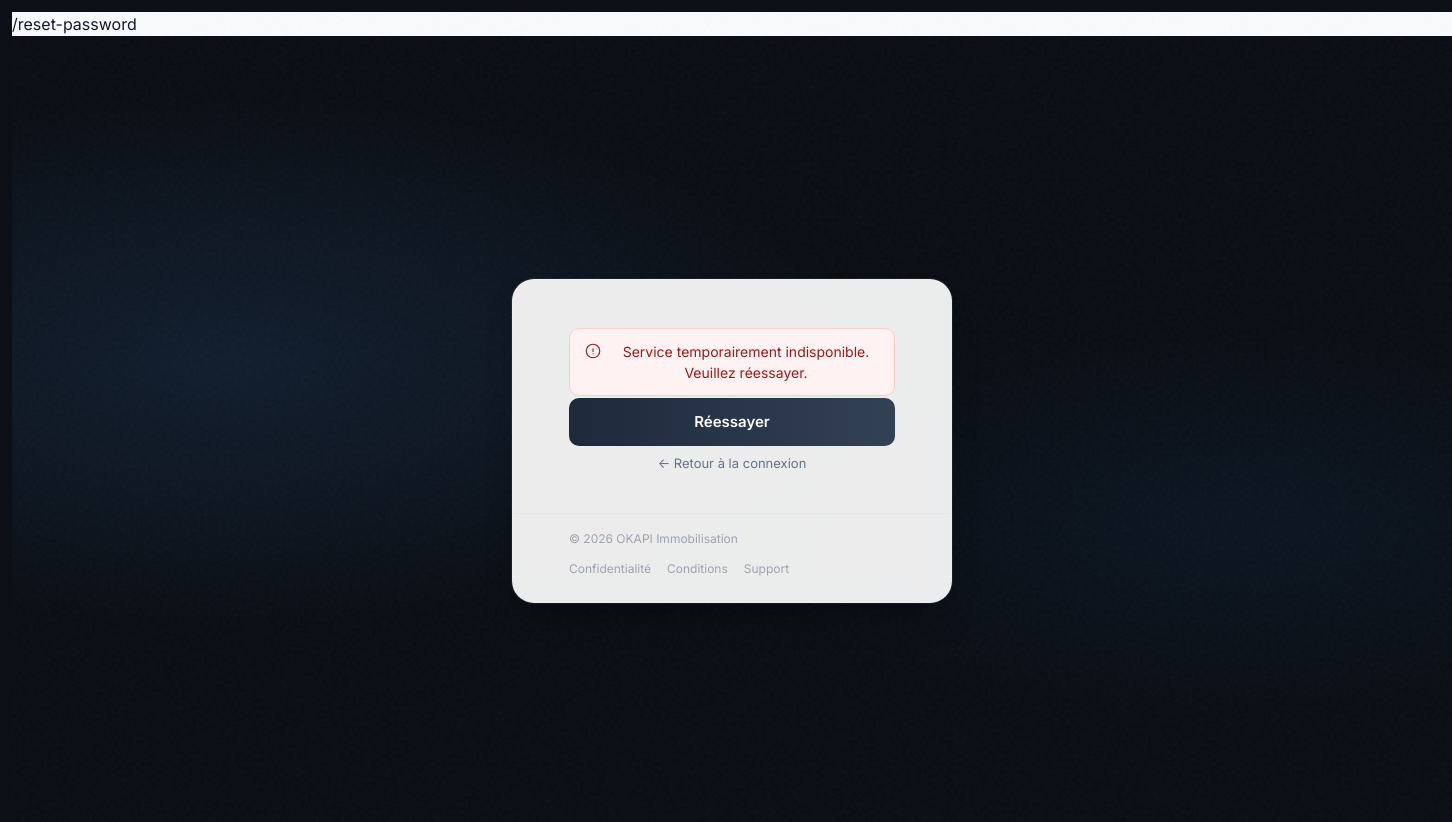
503 during verification offers retry and never grants access to the form
The width and height of the screenshot is (1452, 822).
Expected: the text "Service temporairement indisponible. Veuillez réessayer." is shown, [569,328,895,396]
Expected: the field labelled "Nouveau mot de passe" is not shown
Click the button "Réessayer": (732, 422) [569,398,895,446]
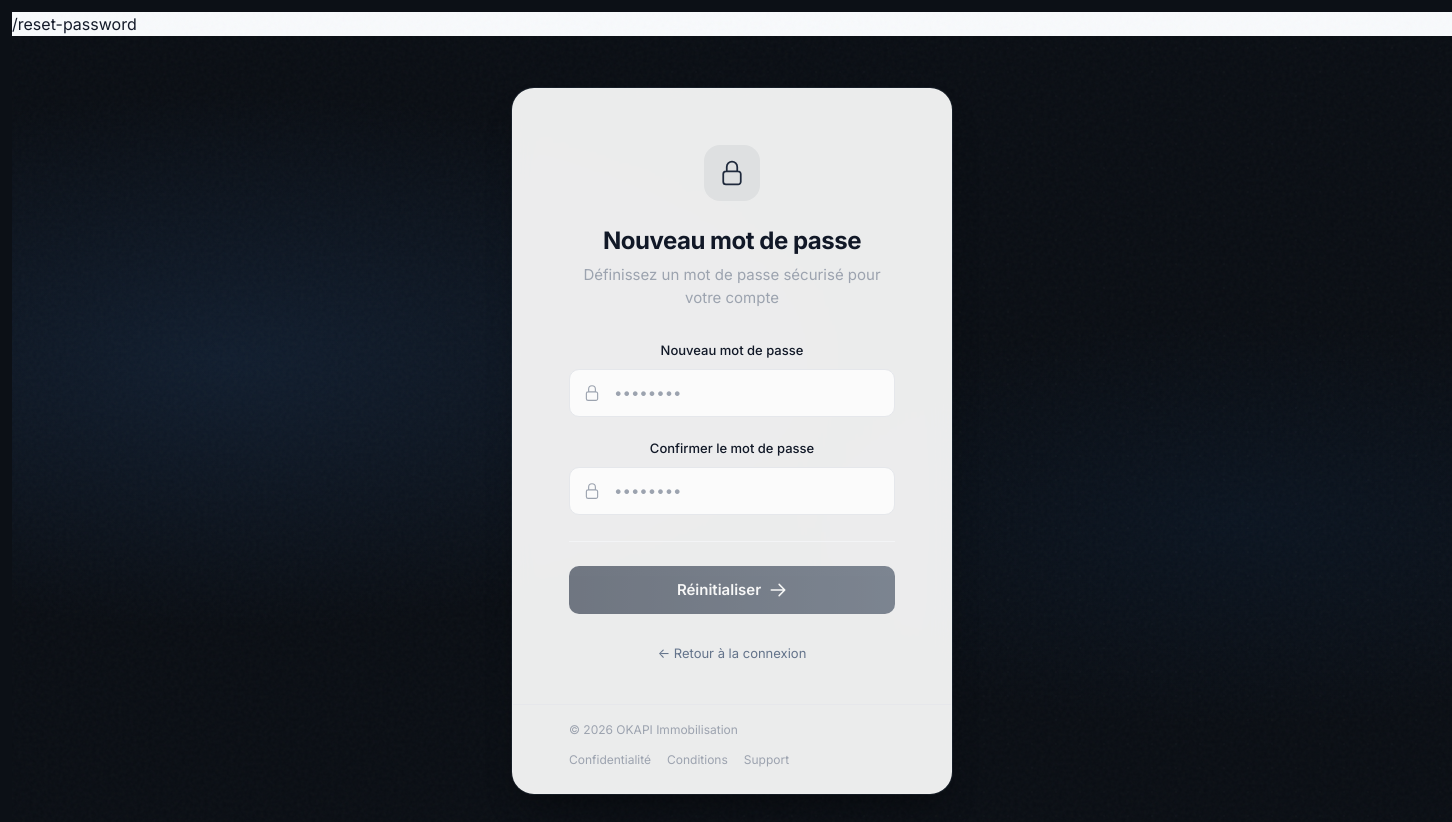
Expected: the password field labelled "Nouveau mot de passe" is shown, [569,369,895,417]
